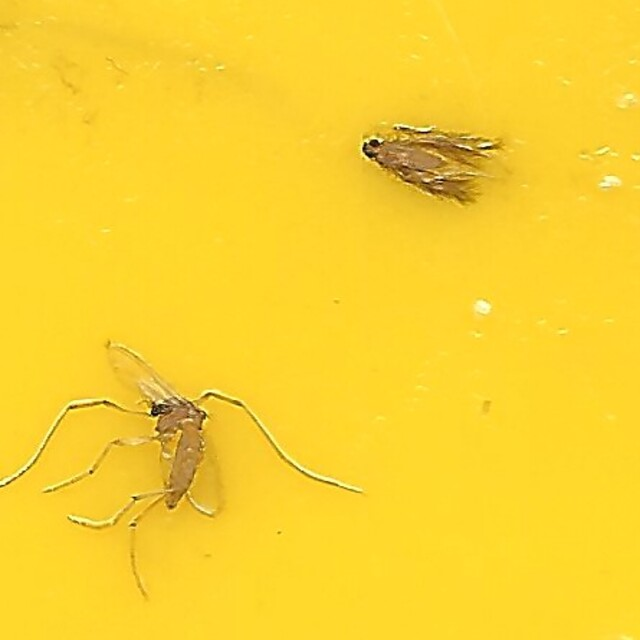Nematocera: (144, 391, 209, 510)
Trichoptera: (347, 130, 496, 207)
